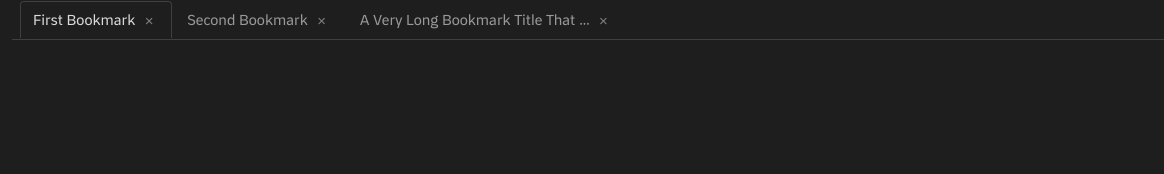
Test: BookmarkTabs › context menu › closes context menu on Escape
The image size is (1164, 174).
Step 1. Right-click the text "Second Bookmark" → x=247, y=20, box 187,11 -> 308,29
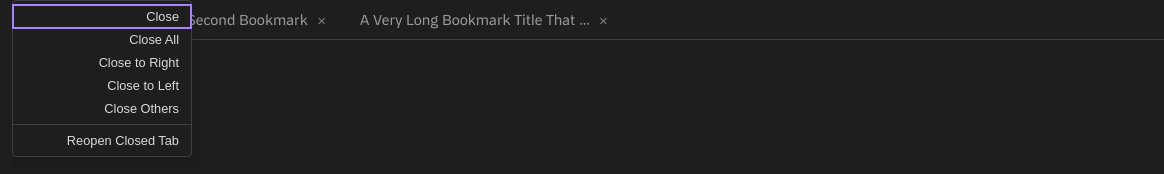
Expected: the menu is shown, 12,0 -> 192,157
Step 2. Press Escape
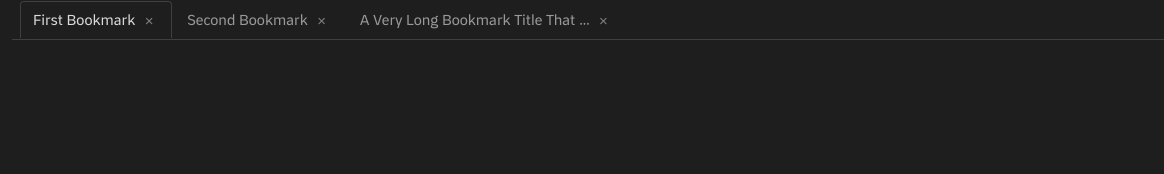
Expected: the menu is gone
